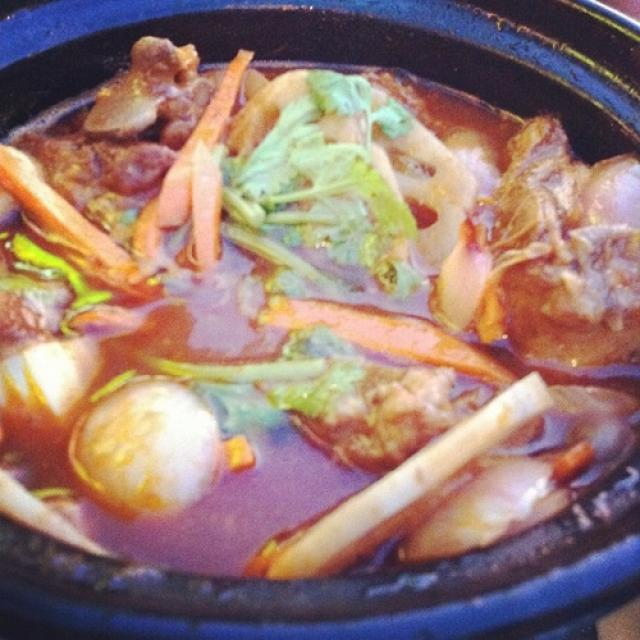汤锅炖物: (5, 10, 631, 621)
